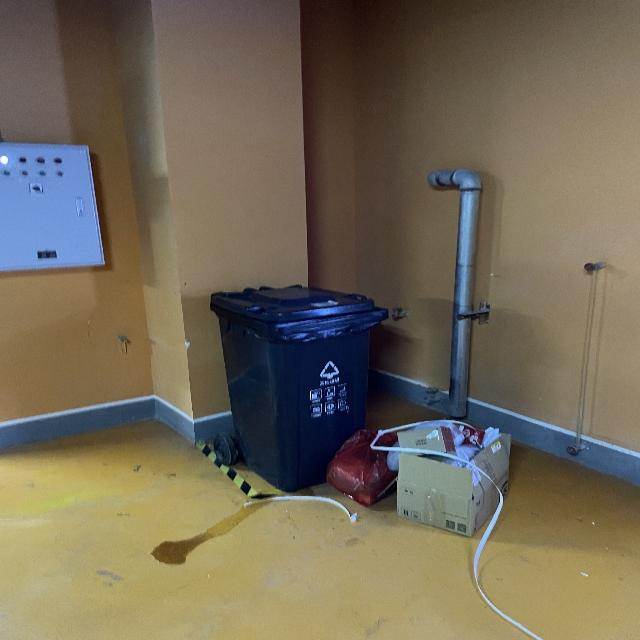garbage: (244, 419, 543, 639)
garbage_bin: (209, 284, 387, 492)
